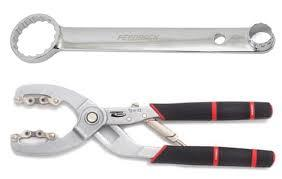wrench: (8, 10, 276, 64)
